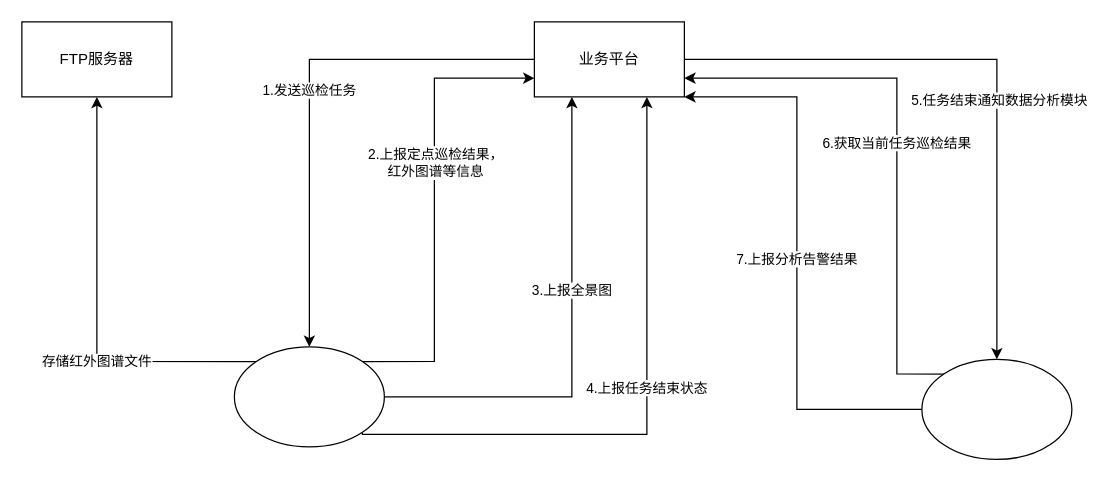
Some shapes in this 1109 by 481 pixel diagram are drawn without their labels. The centre of each missing label's shape, as x and y in pixels:
数据分析: pixel 996 408
球机: pixel 308 396
